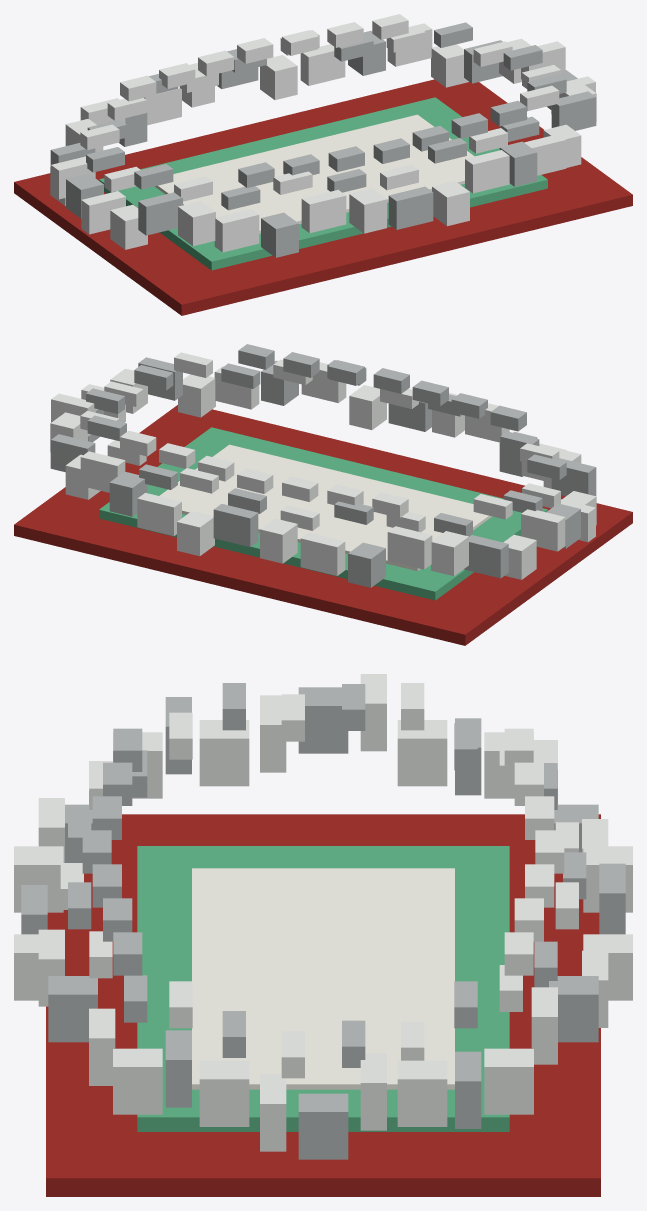
Rendered from voxel-beijing-bird-nest.gltf.
The picture shows the model from 3 angles, top to bottom: view 1: azimuth 30°, elevation 25°; view 2: azimuth 150°, elevation 25°; view 3: azimuth 270°, elevation 25°; orthographic projection. The views are drawn at different scales.
Size of the model in its own units: 6.63 by 1.42 by 4.24.
